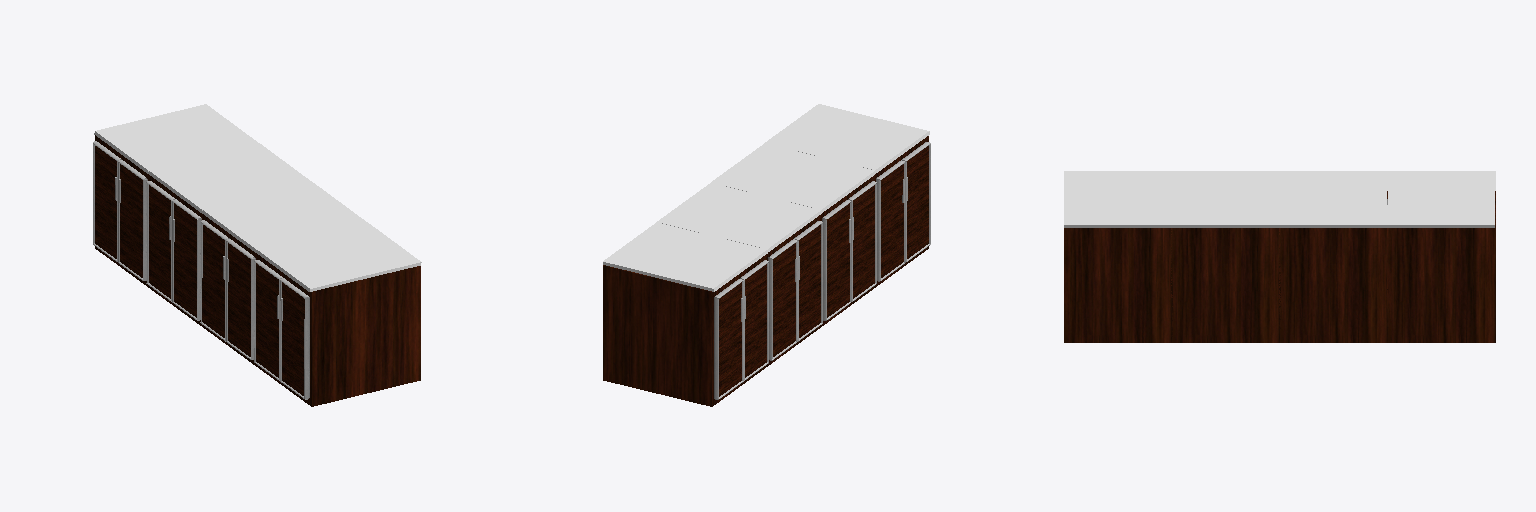
3 views of the same model, side by side, from view 1: azimuth 30°, elevation 25°; view 2: azimuth 150°, elevation 25°; view 3: azimuth 270°, elevation 25° (orthographic).
Visible parts, largest first — view 1: pasted__pasted__polySurface141 pasted__group82 group83, polySurface141, pasted__polySurface141 group82, pasted__pasted__pasted__polySurface141 pasted__pasted__group82 p; view 2: polySurface141, pasted__polySurface141 group82, pasted__pasted__polySurface141 pasted__group82 group83, pasted__pasted__pasted__polySurface141 pasted__pasted__group82 p; view 3: polySurface141, pasted__pasted__polySurface141 pasted__group82 group83, pasted__polySurface141 group82, pasted__pasted__pasted__polySurface141 pasted__pasted__group82 p.
Boxes of the visible parts, box(x1,y1,x2,y2) form: pasted__pasted__polySurface141 pasted__group82 group83: box(254, 223, 421, 406); polySurface141: box(93, 104, 259, 287); pasted__polySurface141 group82: box(146, 144, 312, 326); pasted__pasted__pasted__polySurface141 pasted__pasted__group82 p: box(200, 183, 367, 366); polySurface141: box(603, 222, 768, 406); pasted__polySurface141 group82: box(657, 183, 822, 366); pasted__pasted__polySurface141 pasted__group82 group83: box(765, 104, 930, 287); pasted__pasted__pasted__polySurface141 pasted__pasted__group82 p: box(711, 143, 876, 326); polySurface141: box(1387, 171, 1495, 342); pasted__pasted__polySurface141 pasted__group82 group83: box(1064, 171, 1172, 342); pasted__polySurface141 group82: box(1279, 171, 1387, 342); pasted__pasted__pasted__polySurface141 pasted__pasted__group82 p: box(1171, 171, 1280, 342).
Bounding box in the file's own units: 0.582 × 0.5682 × 1.89.
45 materials, 3 textured.